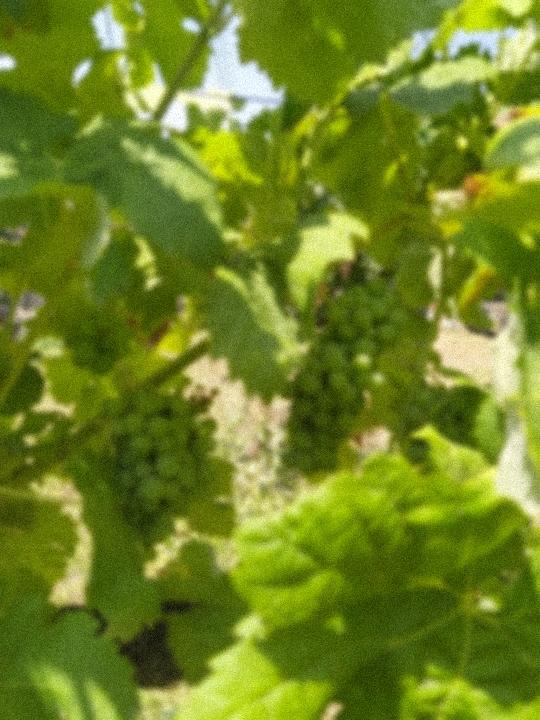grape: (277, 274, 412, 478), (97, 389, 218, 546)
